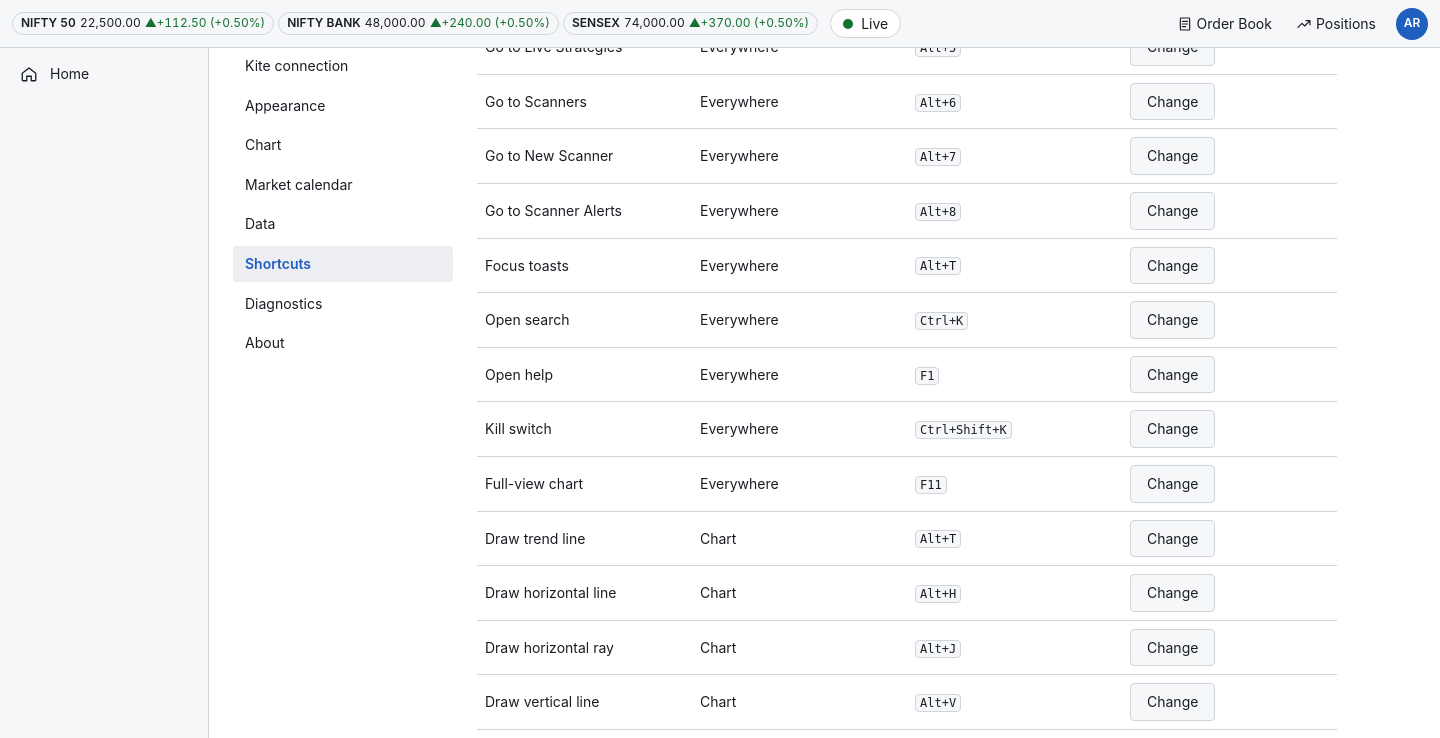
it: FR-SHELL-019 Settings → Shortcuts › shows Go's refusal reason for an invalid binding and keeps the dialog open
(page scrolled)
Click the button named "Change shortcut for Kill switch". click: click(1173, 429)
box: [1130,410,1215,448]
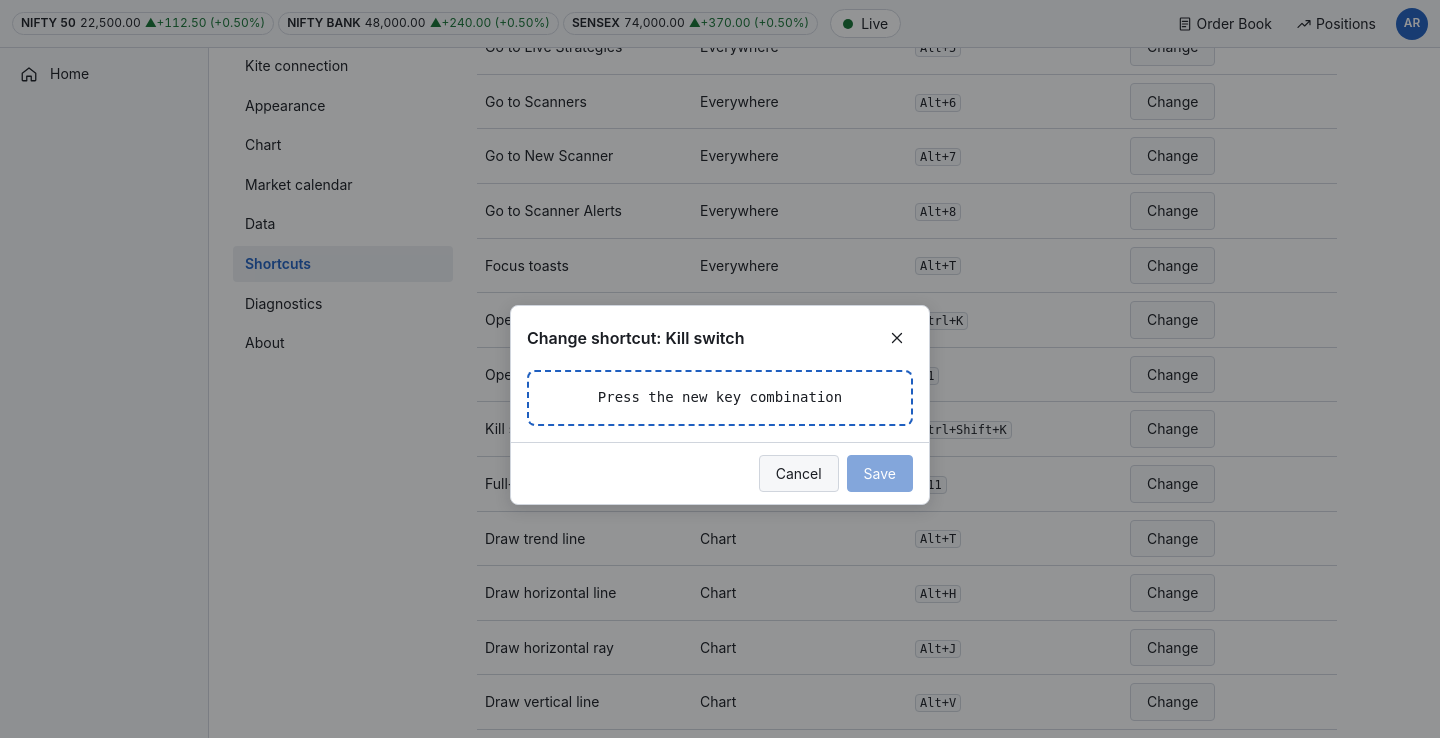
Type keys "{Control>}c{/Control}"
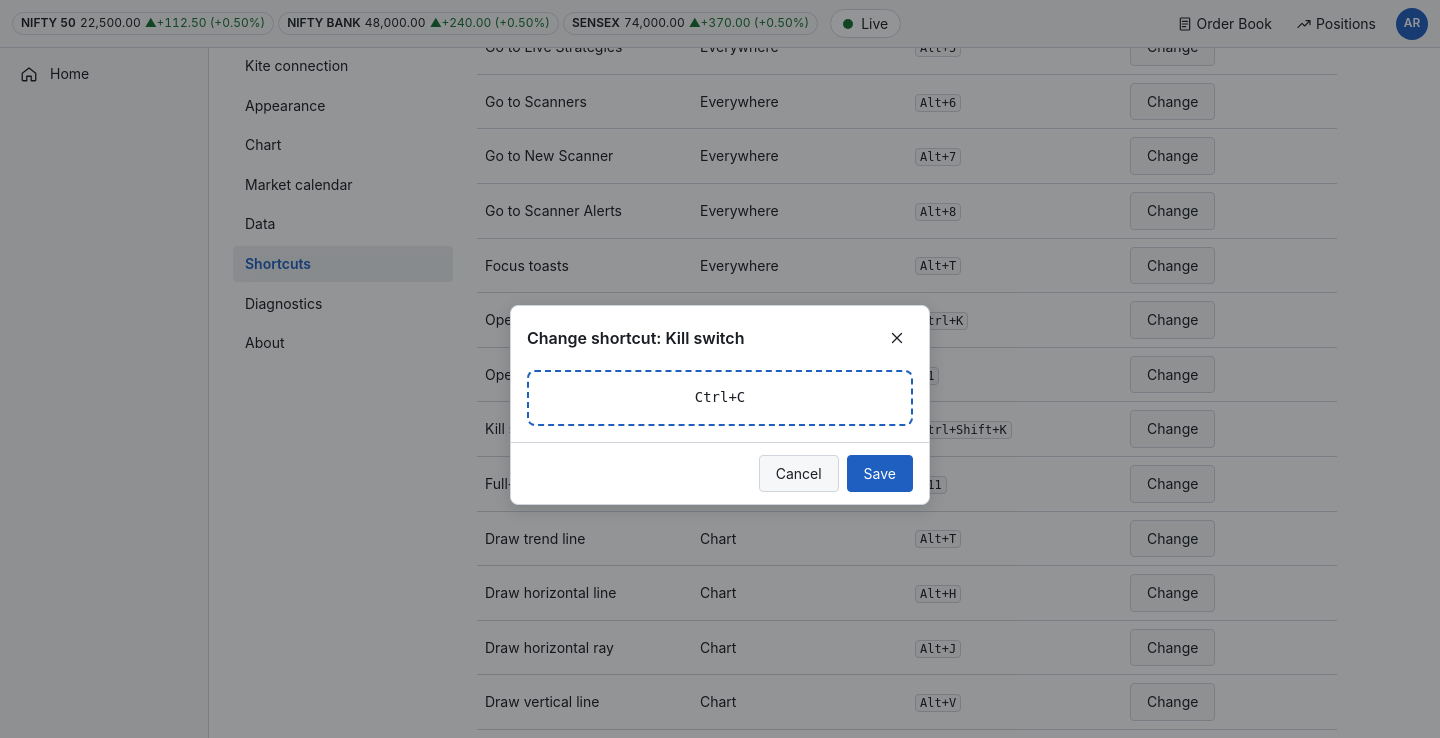
Click the button "Save". click: click(880, 473)
box: [847,454,913,492]
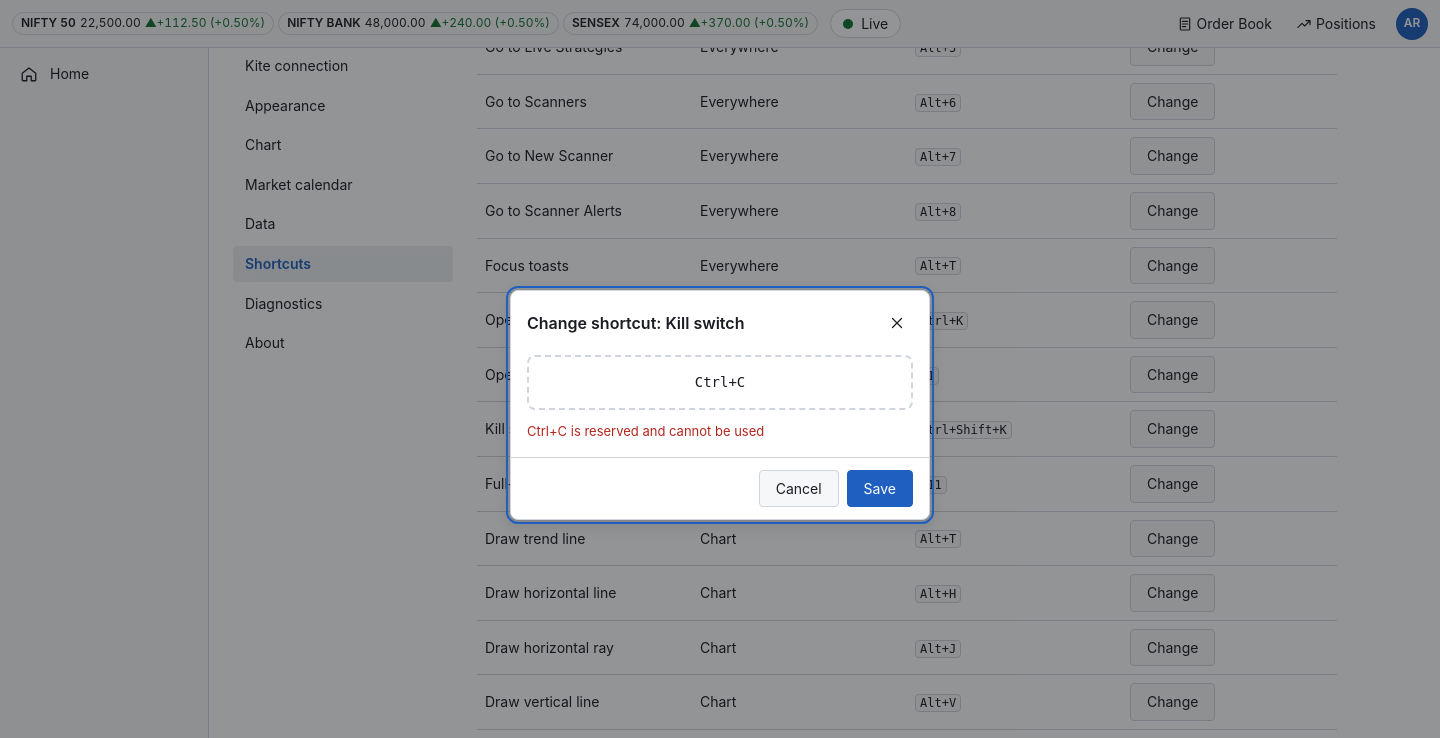
Expected: the message reads "Ctrl+C is reserved and cannot be used", [527,423,764,439]
